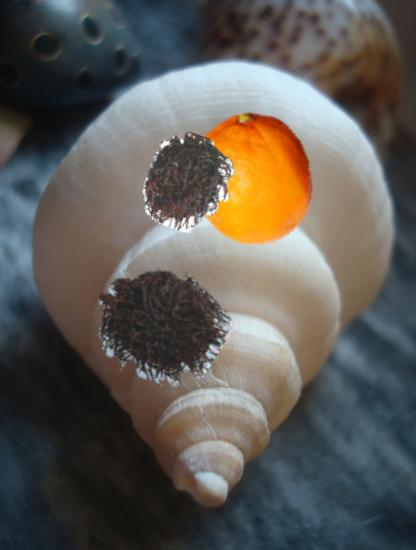Lemon: (184, 110, 322, 248)
Rambutan: (93, 260, 224, 391), (138, 133, 236, 231)
